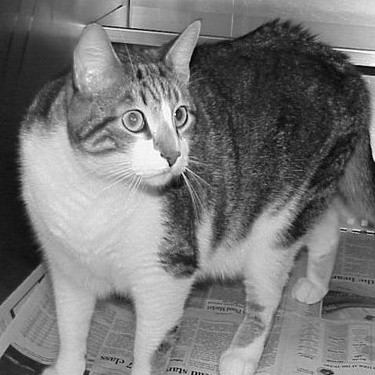cat: (20, 19, 368, 374)
